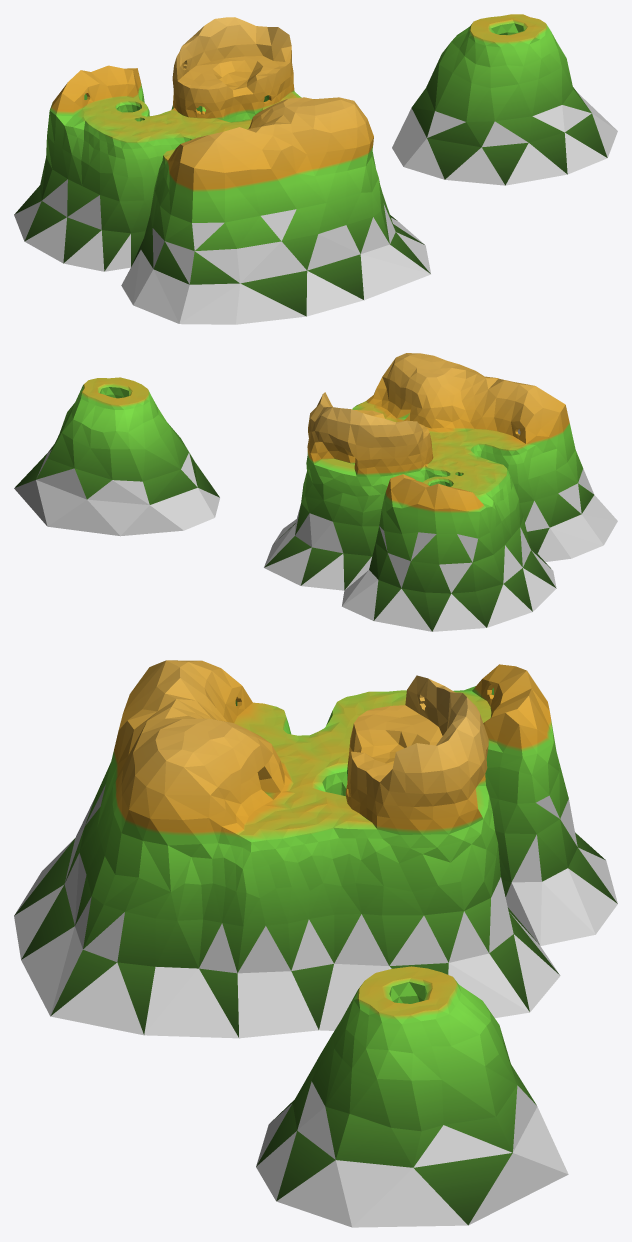
The model's file is Terrain3.fbx.
The picture shows the model from 3 angles, top to bottom: view 1: azimuth 30°, elevation 25°; view 2: azimuth 150°, elevation 25°; view 3: azimuth 270°, elevation 25°; orthographic projection. The views are drawn at different scales.
Visible parts, largest first — view 1: Terrain.001; view 2: Terrain.001; view 3: Terrain.001.
Part boxes in pixels (bbox=[...]): Terrain.001: bbox=[14, 14, 617, 324]; Terrain.001: bbox=[14, 353, 617, 631]; Terrain.001: bbox=[14, 660, 617, 1227].
Bounding box in the file's own units: 18567 × 5514 × 11537.
